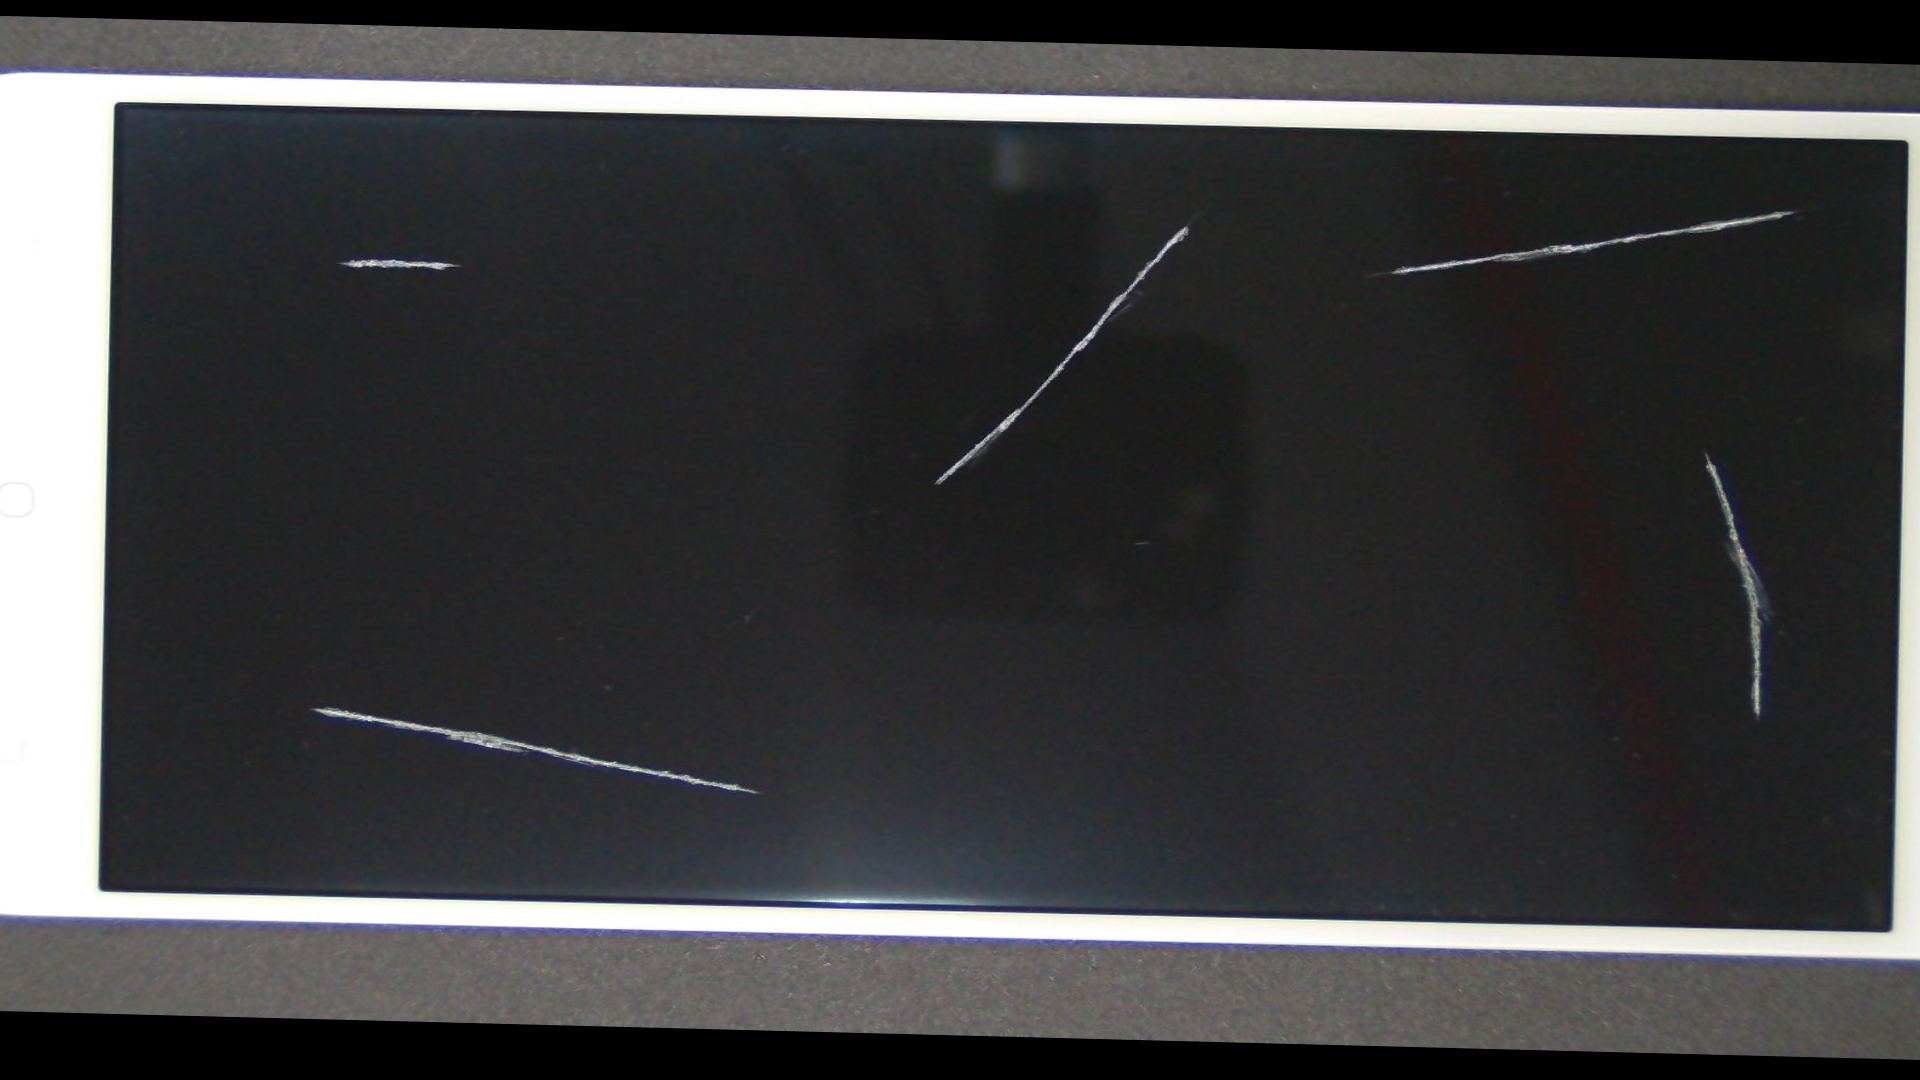oil: (785, 229, 1920, 661), (88, 360, 559, 1025), (534, 117, 1840, 331), (832, 111, 1920, 294), (136, 135, 654, 381)
